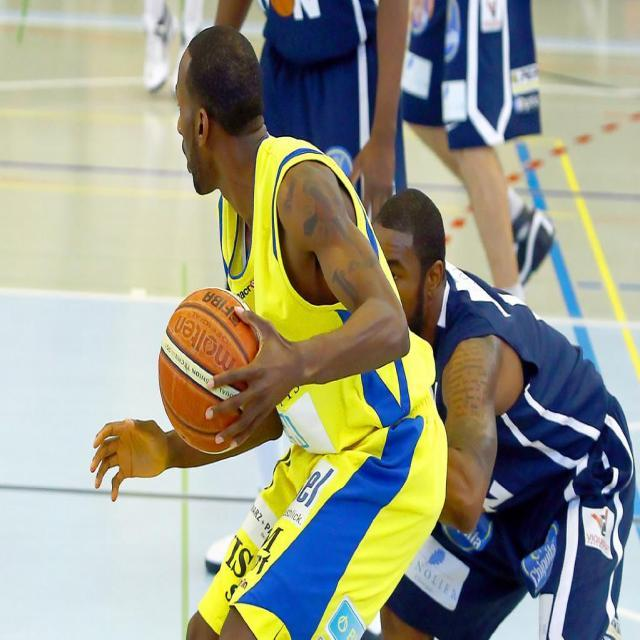rim: (158, 285, 254, 457)
